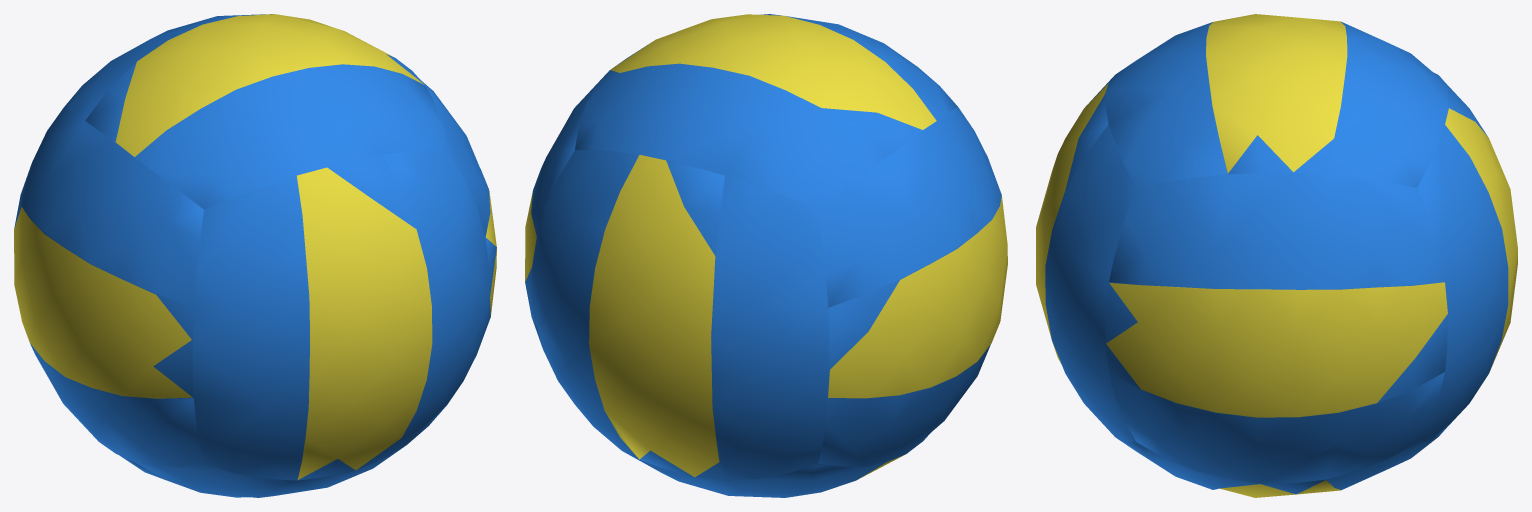
Rendered from volleyball.fbx.
3 views of the same model, side by side, from view 1: azimuth 30°, elevation 25°; view 2: azimuth 150°, elevation 25°; view 3: azimuth 270°, elevation 25° (orthographic).
Parts seen in each view (by area): view 1: VolleyBall; view 2: VolleyBall; view 3: VolleyBall.
Part boxes in pixels (box(x1,y1,x2,y2)): VolleyBall: box(14, 14, 496, 497); VolleyBall: box(525, 14, 1007, 497); VolleyBall: box(1036, 14, 1517, 497).
Bounding box in the file's own units: 64.29 × 64.29 × 64.29.
